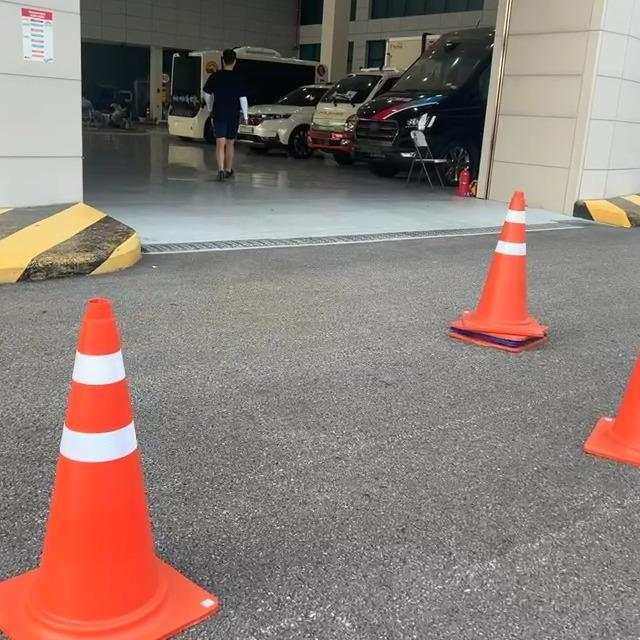fallen_object: (10, 270, 284, 640), (462, 194, 548, 356)
